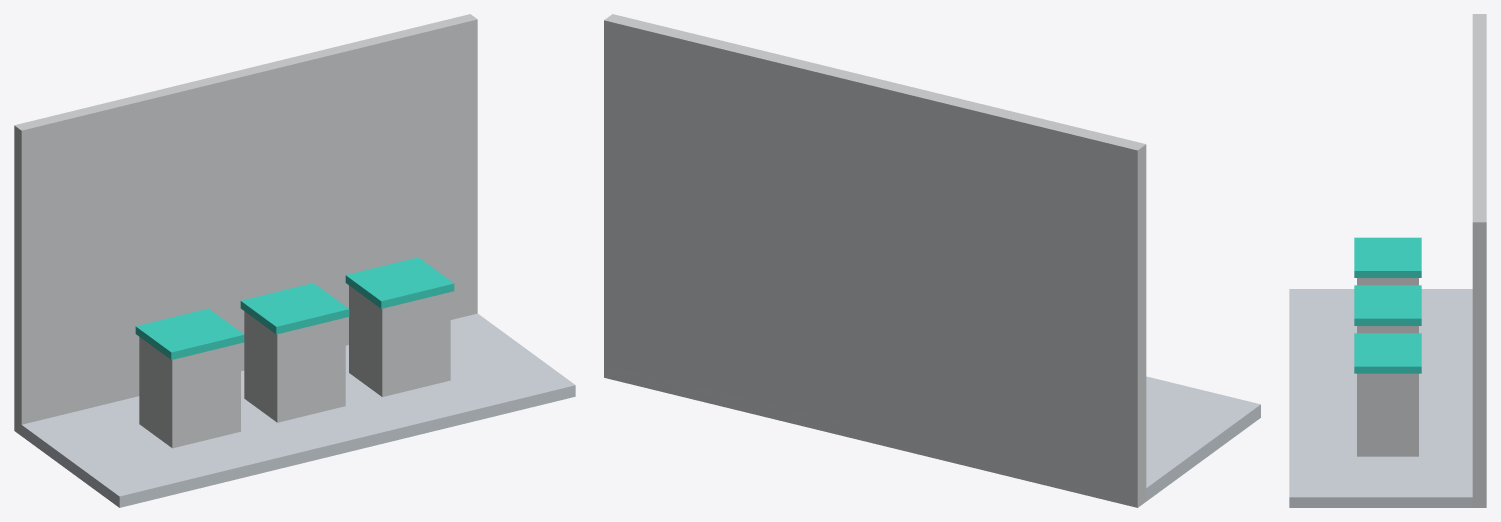
3 views of the same model, side by side, from view 1: azimuth 30°, elevation 25°; view 2: azimuth 150°, elevation 25°; view 3: azimuth 270°, elevation 25° (orthographic). The views are drawn at different scales.
Parts seen in each view (by area): view 1: Exhibition Booth Concept; view 2: Exhibition Booth Concept; view 3: Exhibition Booth Concept.
Part boxes in pixels (bbox=[...]): Exhibition Booth Concept: bbox=[14, 14, 575, 507]; Exhibition Booth Concept: bbox=[604, 14, 1260, 507]; Exhibition Booth Concept: bbox=[1289, 14, 1486, 507].
Bounding box in the file's own units: 5 × 3.2 × 2.
